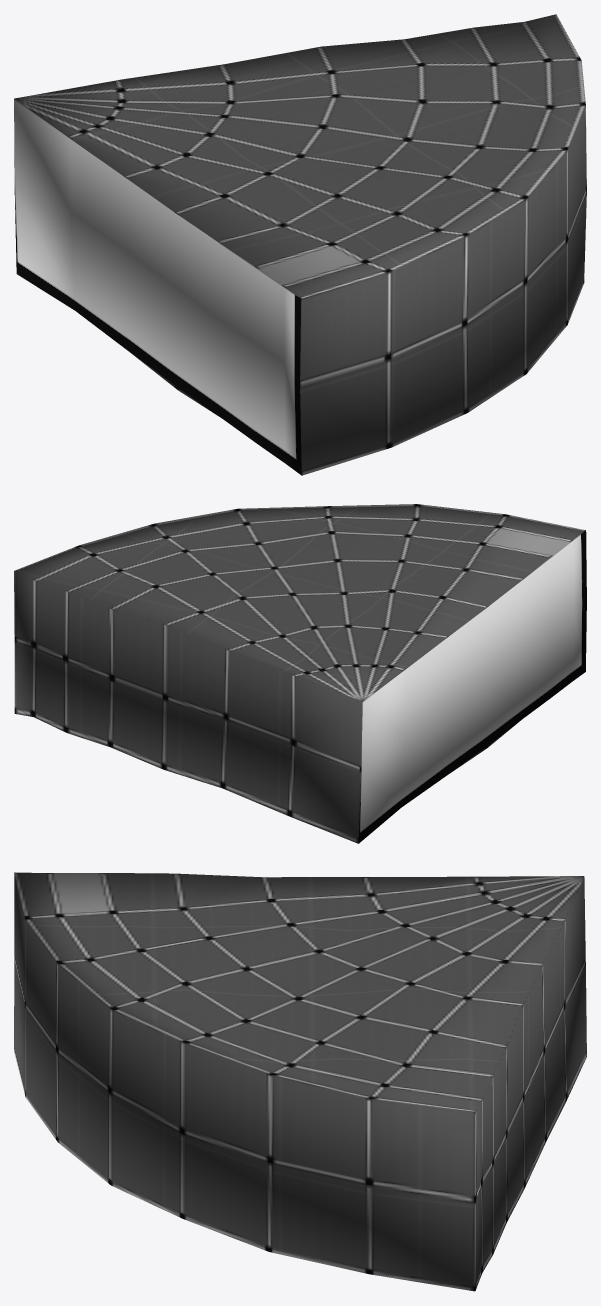
The model's file is watermelon.glb.
3 views of the same model, one above another, from view 1: azimuth 30°, elevation 25°; view 2: azimuth 150°, elevation 25°; view 3: azimuth 270°, elevation 25° (orthographic). The views are drawn at different scales.
Parts seen in each view (by area): view 1: Sphere; view 2: Sphere; view 3: Sphere.
Boxes of the visible parts, box(x1,y1,x2,y2) form: Sphere: box(14, 14, 586, 475); Sphere: box(14, 504, 586, 843); Sphere: box(14, 872, 586, 1291).
Bounding box in the file's own units: 0.973 × 0.3558 × 0.9801.
Materials: 1 (1 with a texture image).
